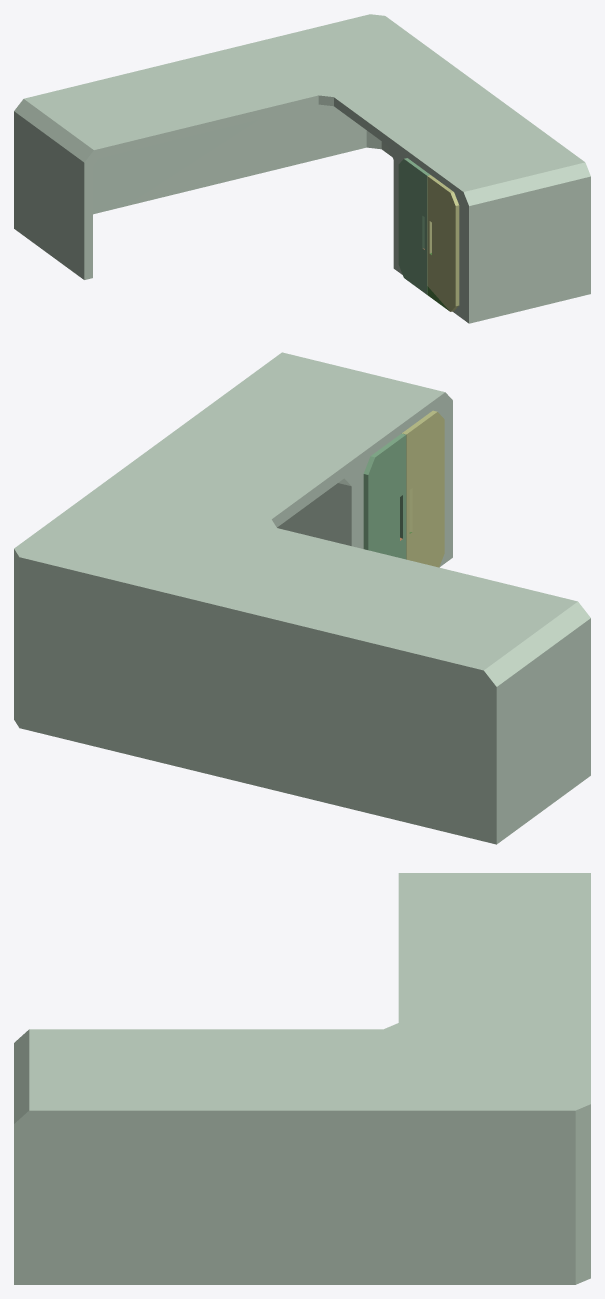
Rendered from stol_rabochiy.fbx.
The picture shows the model from 3 angles, top to bottom: view 1: azimuth 30°, elevation 25°; view 2: azimuth 150°, elevation 25°; view 3: azimuth 270°, elevation 25°; orthographic projection. The views are drawn at different scales.
Visible parts, largest first — view 1: 000-0-2; view 2: 000-0-2; view 3: 000-0-2.
Boxes of the visible parts, bbox=[...] form: 000-0-2: bbox=[14, 14, 590, 323]; 000-0-2: bbox=[14, 352, 590, 844]; 000-0-2: bbox=[14, 873, 590, 1284].
Bounding box in the file's own units: 142 × 47.35 × 142.
